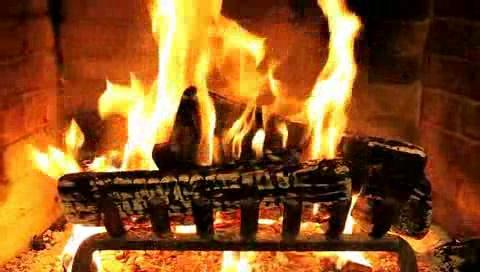fire: (91, 11, 351, 164)
